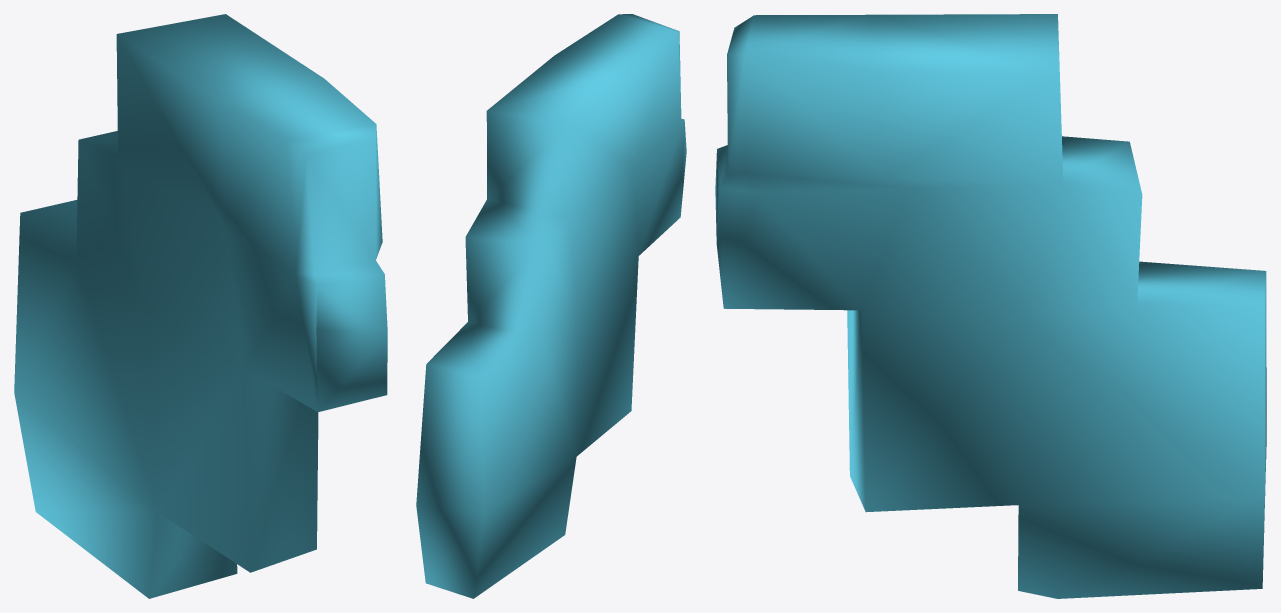
The model's file is wall_elem_01.FBX.
3 views of the same model, side by side, from view 1: azimuth 30°, elevation 25°; view 2: azimuth 150°, elevation 25°; view 3: azimuth 270°, elevation 25° (orthographic). The views are drawn at different scales.
Parts seen in each view (by area): view 1: wall_elem_01; view 2: wall_elem_01; view 3: wall_elem_01.
Part boxes in pixels (<box>): wall_elem_01: <box>14,14,387,598</box>; wall_elem_01: <box>416,14,686,598</box>; wall_elem_01: <box>715,14,1266,598</box>.
Size of the model in its own units: 12.25 by 56.89 by 52.09.
